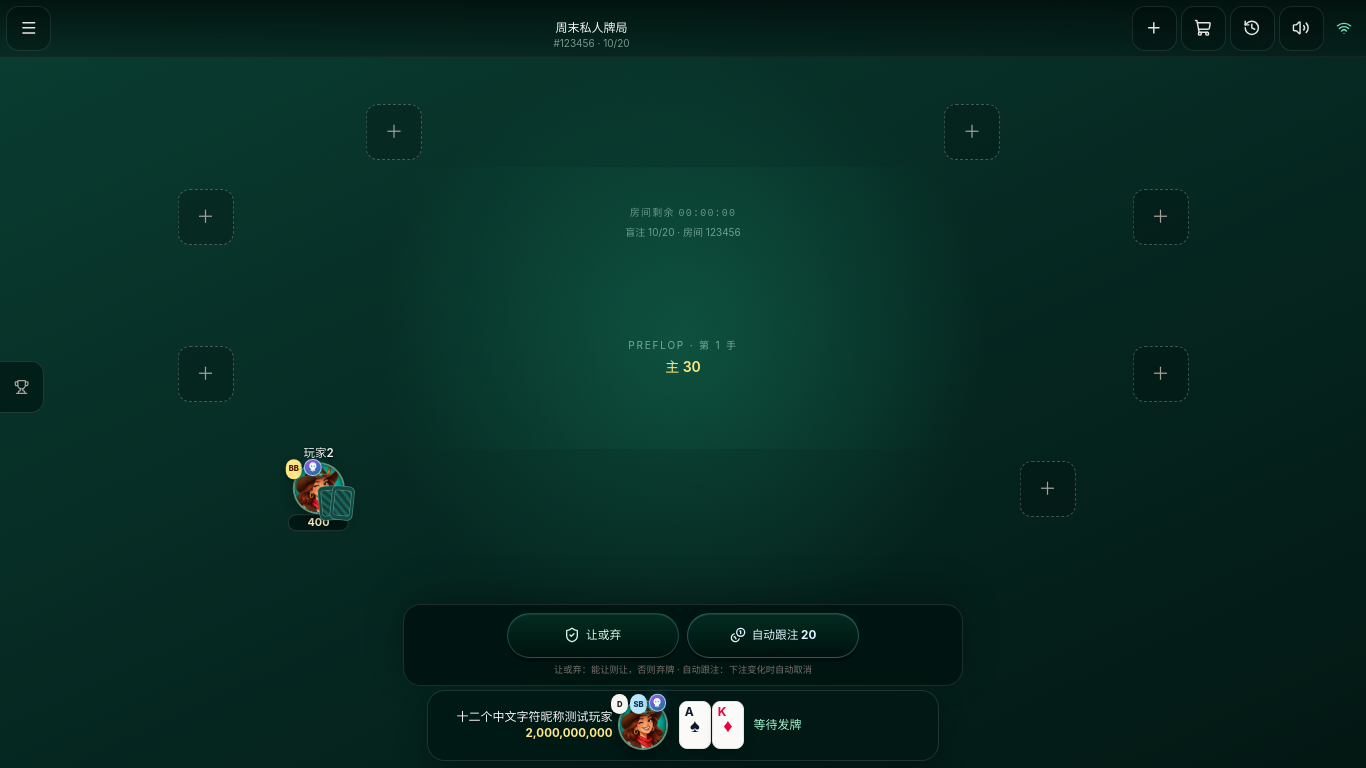
Test: stand and spectator lifecycle › retries a stale stand once with canonical authority at 9 seats in SQUID
Click the button named "打开牌桌菜单": (29, 28) [6, 6, 51, 51]
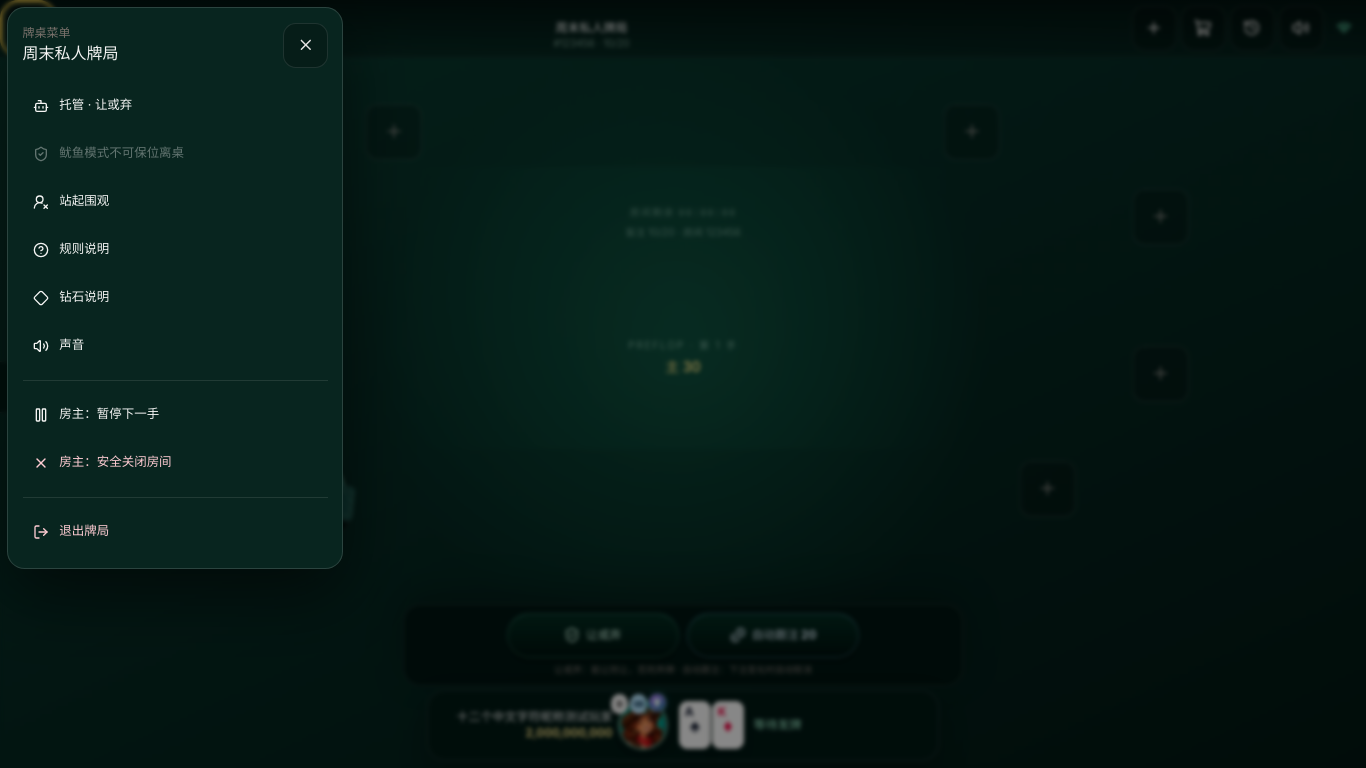
Click the button "站起围观": (84, 201) [23, 180, 328, 224]
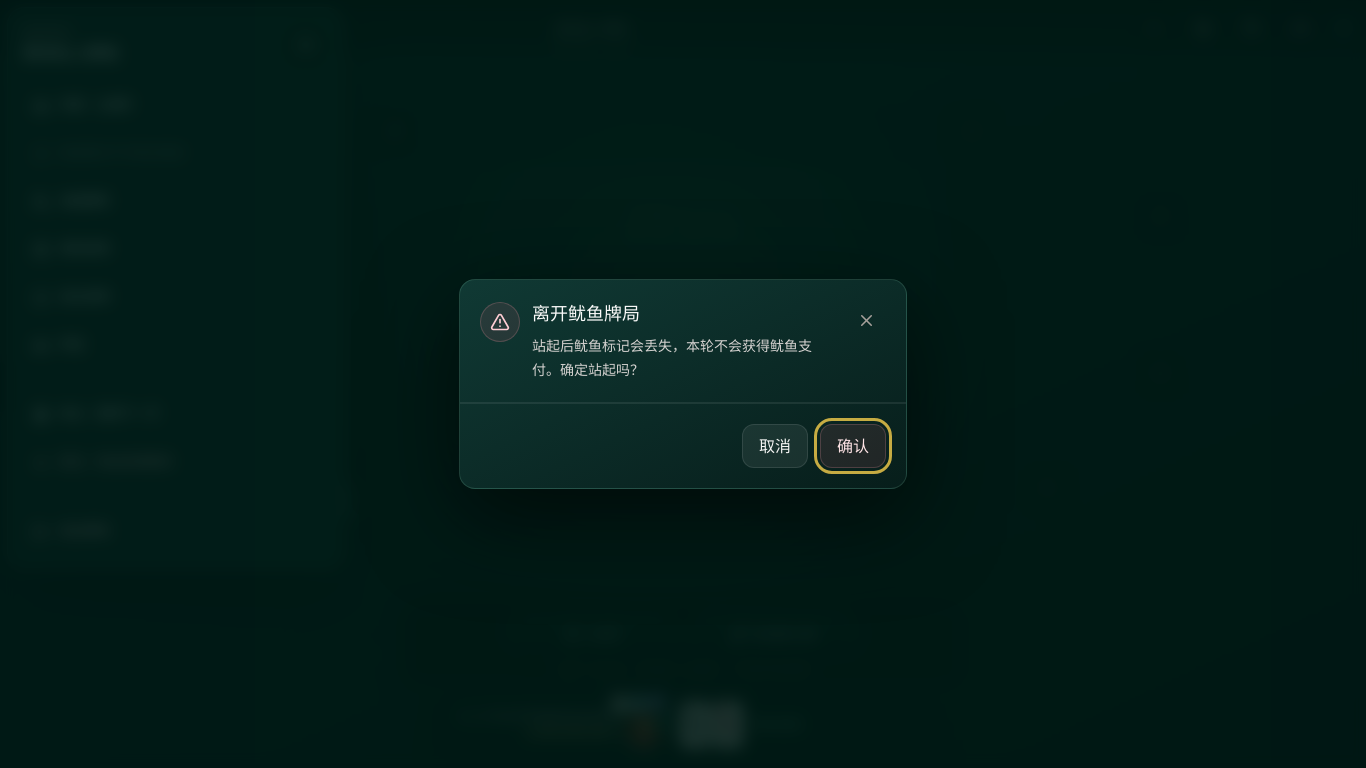
Click the button "确认": (853, 446) [820, 424, 886, 468]
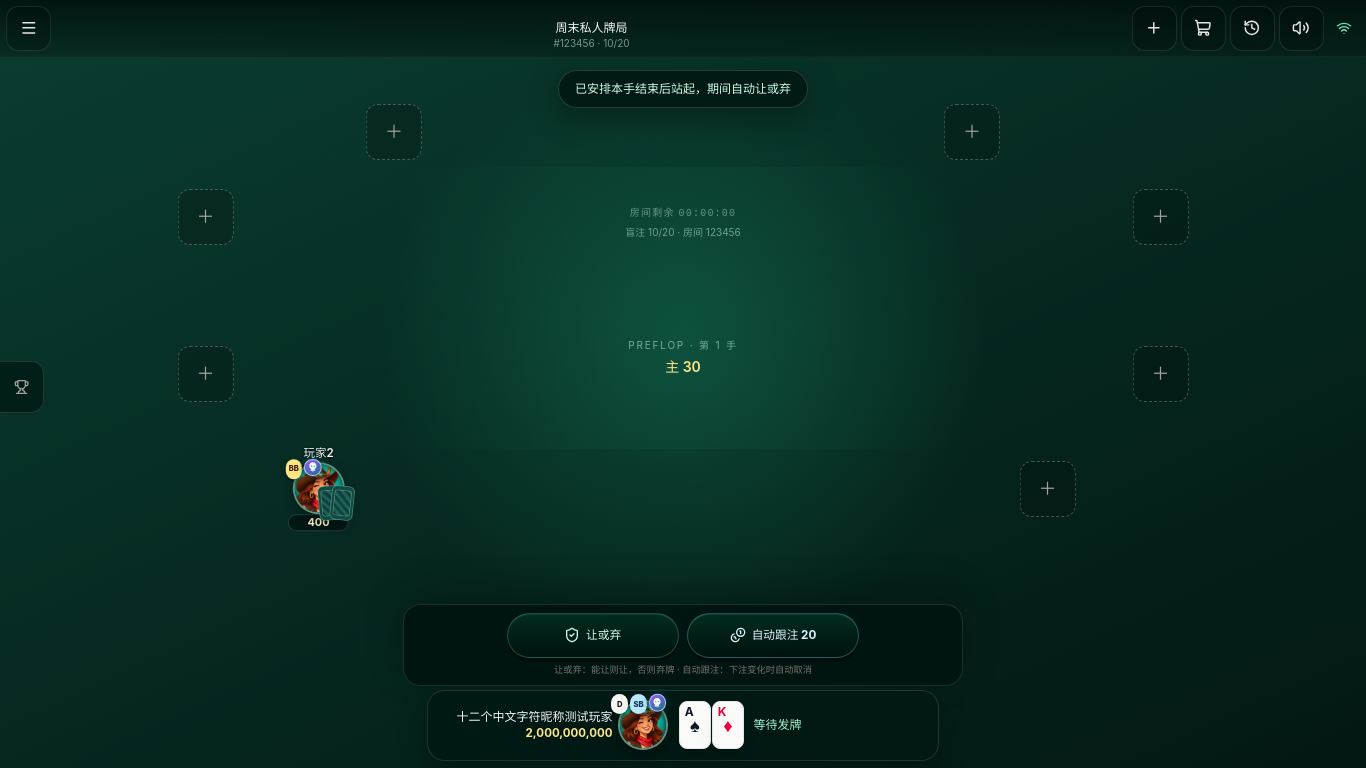
Now the text "牌桌菜单" is gone
